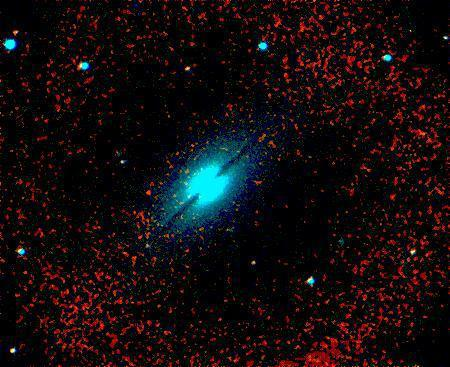star: (131, 175, 161, 205)
